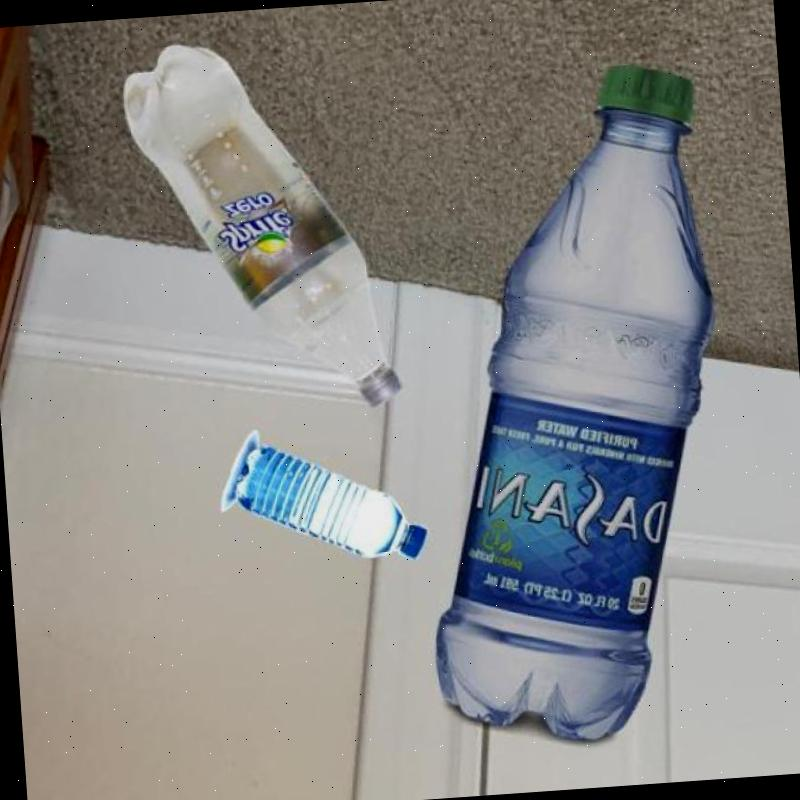botella: (393, 61, 740, 748), (120, 26, 404, 422), (230, 436, 429, 572)
